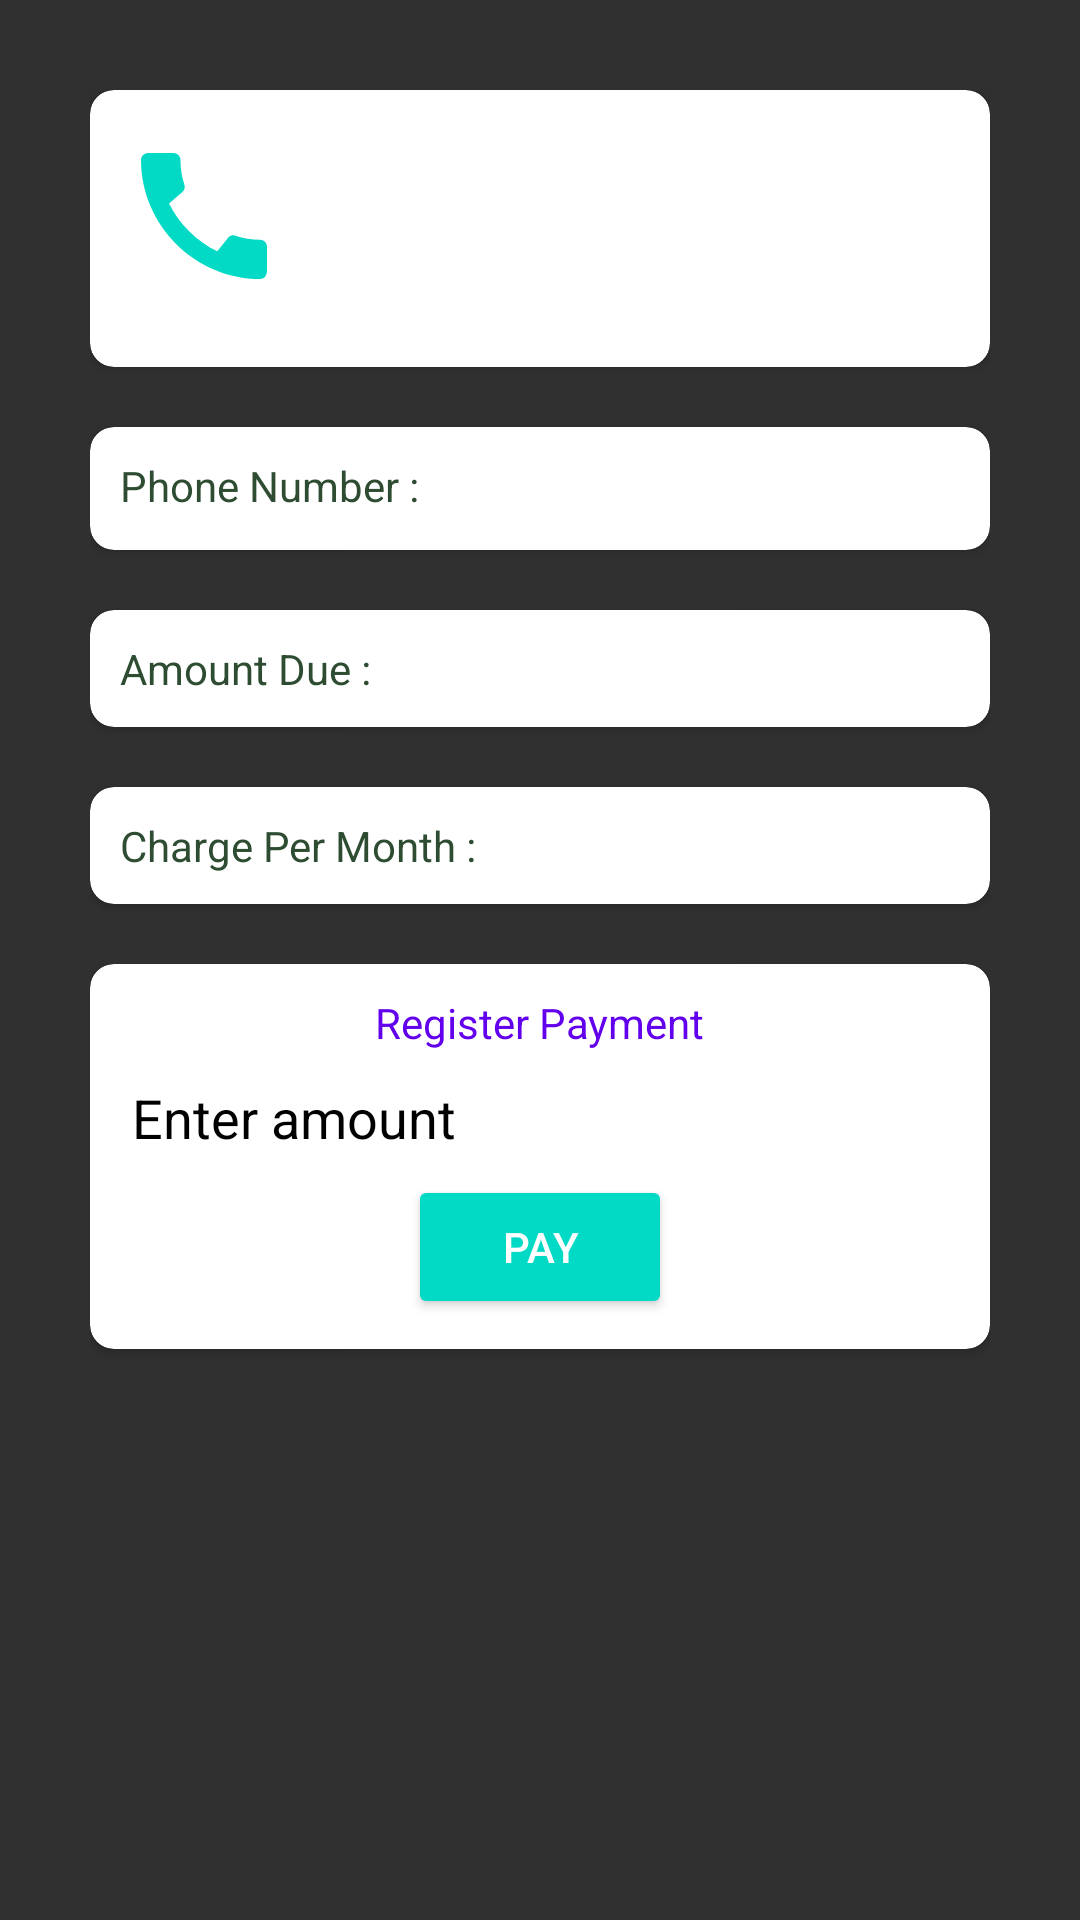

Where icons sit on this 1080 x 1920 app screen, as (left=x1, top=y1, right=x2, bottom=y2):
call: (left=141, top=153, right=267, bottom=279)
